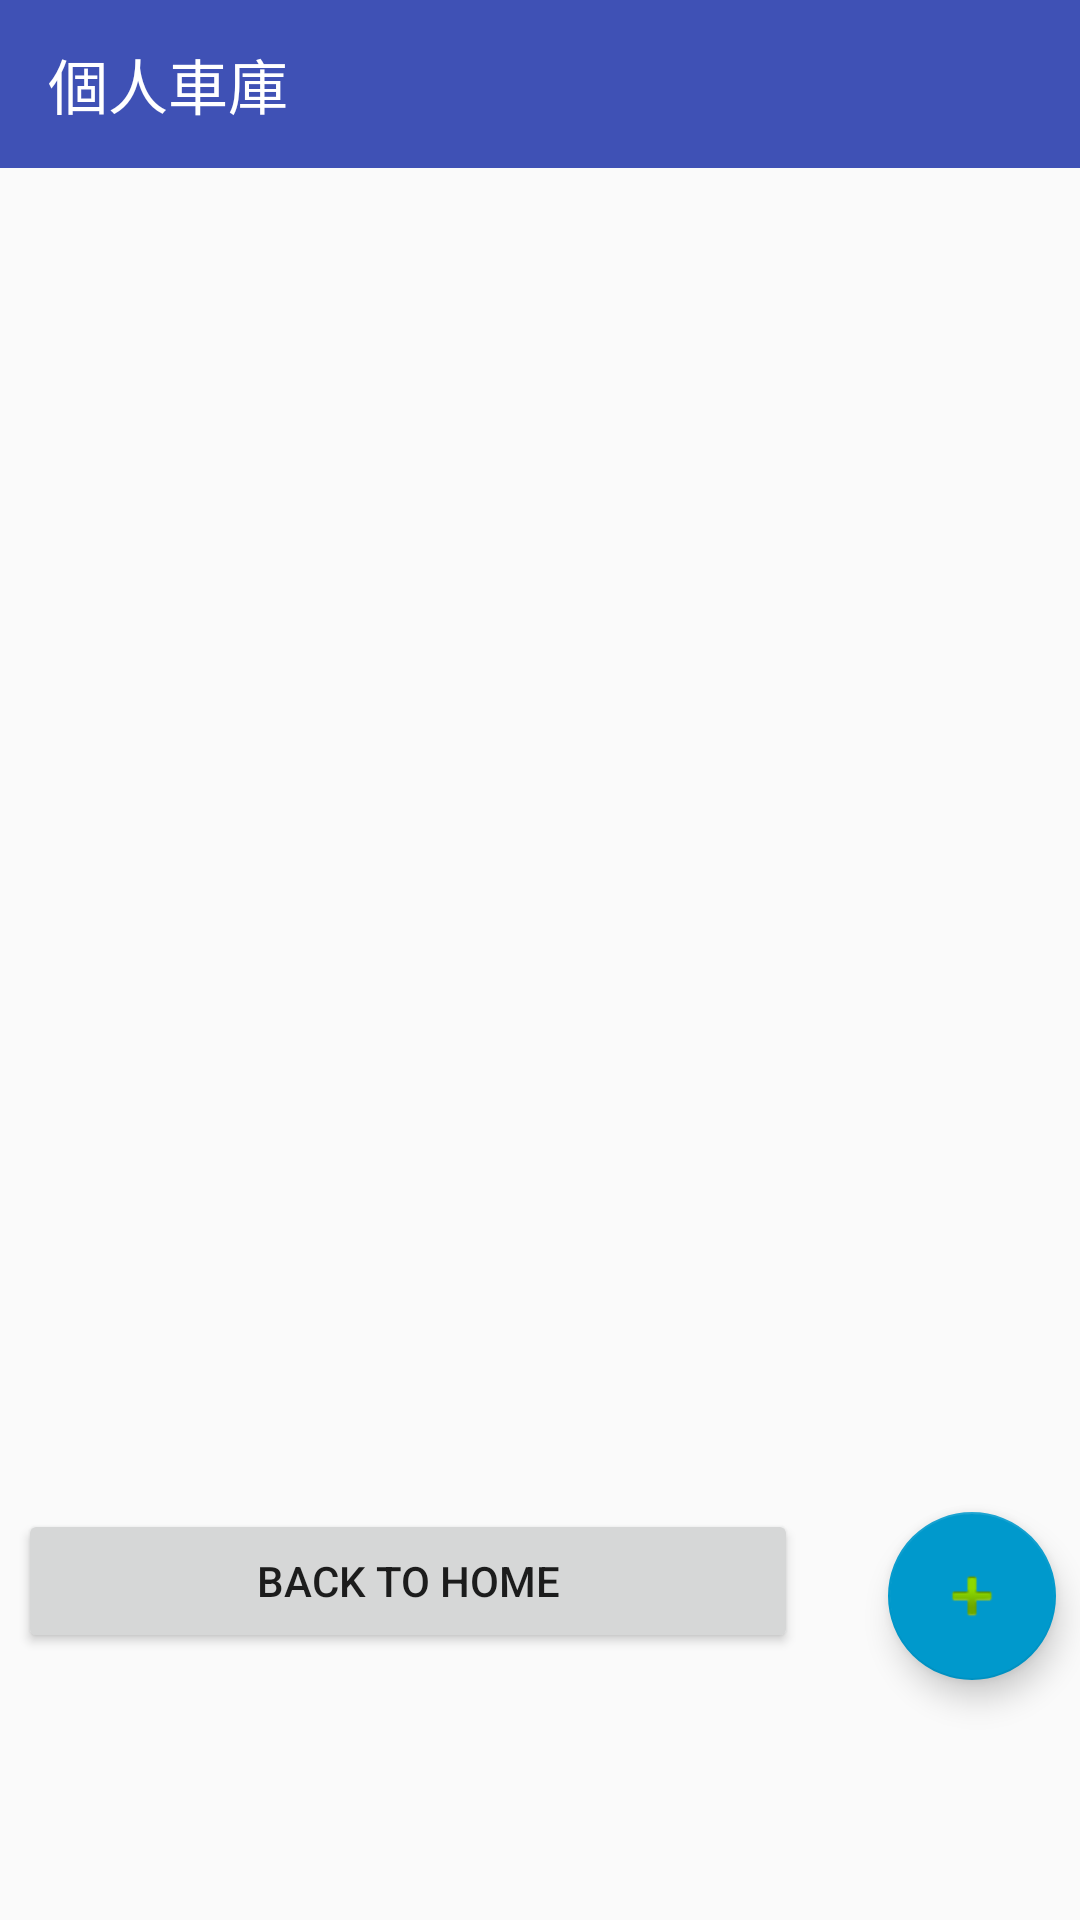

Where icons sit on this 1080px×1920px app screen, as (x1, y1, x2, y2):
add: (888, 1512, 1056, 1680)
